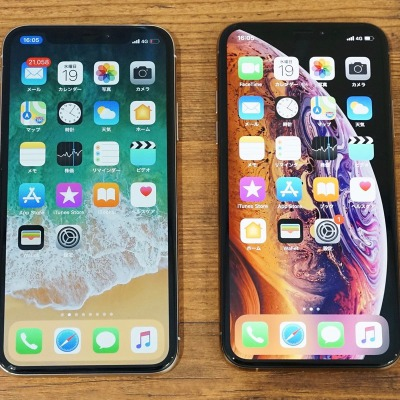iphone: (216, 20, 400, 372), (1, 23, 181, 377)
